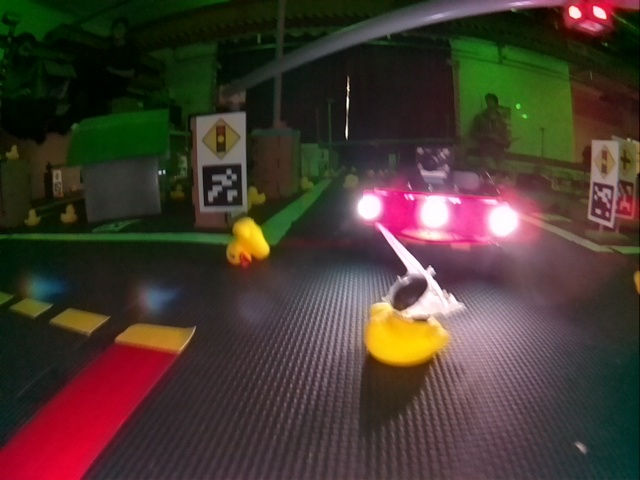Duckie: (226, 217, 270, 266), (247, 186, 265, 204), (61, 204, 76, 224), (24, 209, 40, 226), (6, 145, 19, 159)
Duckiebot: (356, 147, 517, 254)
Intersection sign: (620, 144, 634, 178)
QR code: (201, 164, 242, 208), (590, 180, 613, 222), (617, 180, 634, 216)
Signal sign: (202, 117, 241, 158), (594, 146, 616, 177)
Traffic light: (566, 3, 612, 37)
